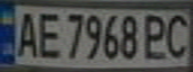6: (100, 11, 124, 61)
7: (60, 10, 84, 60)
8: (118, 11, 142, 61)
9: (81, 10, 106, 61)
A: (12, 8, 42, 59)
C: (163, 11, 193, 60)
E: (33, 8, 63, 60)
P: (139, 11, 172, 61)
